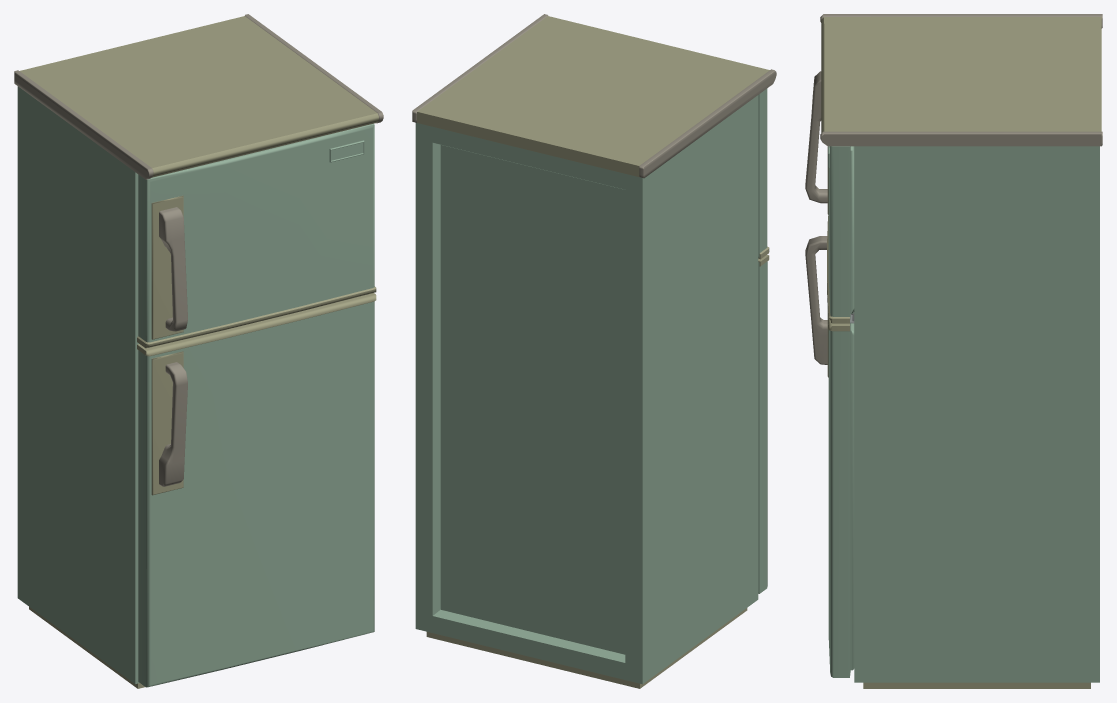
The model's file is fridge_anim.fbx.
3 views of the same model, side by side, from view 1: azimuth 30°, elevation 25°; view 2: azimuth 150°, elevation 25°; view 3: azimuth 270°, elevation 25° (orthographic). The views are drawn at different scales.
Visible parts, largest first — view 1: fridge_body1, fridge_frozen_door; view 2: fridge_body1, fridge_frozen_door; view 3: fridge_body1, fridge_frozen_door.
Part boxes in pixels (left/top/right/bottom): fridge_body1: left=14, top=14, right=383, bottom=688; fridge_frozen_door: left=137, top=123, right=376, bottom=348; fridge_body1: left=412, top=14, right=776, bottom=688; fridge_frozen_door: left=758, top=88, right=769, bottom=259; fridge_body1: left=805, top=14, right=1102, bottom=688; fridge_frozen_door: left=805, top=71, right=854, bottom=323.
Size of the model in its own units: 0.8178 by 1.78 by 0.8565.
